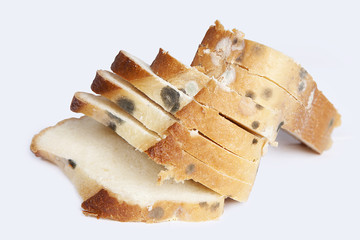mold_bread: (158, 84, 185, 112), (103, 109, 127, 134), (197, 198, 225, 216), (294, 67, 309, 97), (146, 204, 165, 221), (115, 94, 134, 111), (63, 156, 78, 172), (260, 88, 274, 101), (185, 162, 197, 176), (244, 89, 257, 101), (251, 119, 261, 132), (231, 34, 241, 47), (235, 54, 243, 65), (252, 137, 258, 146)
